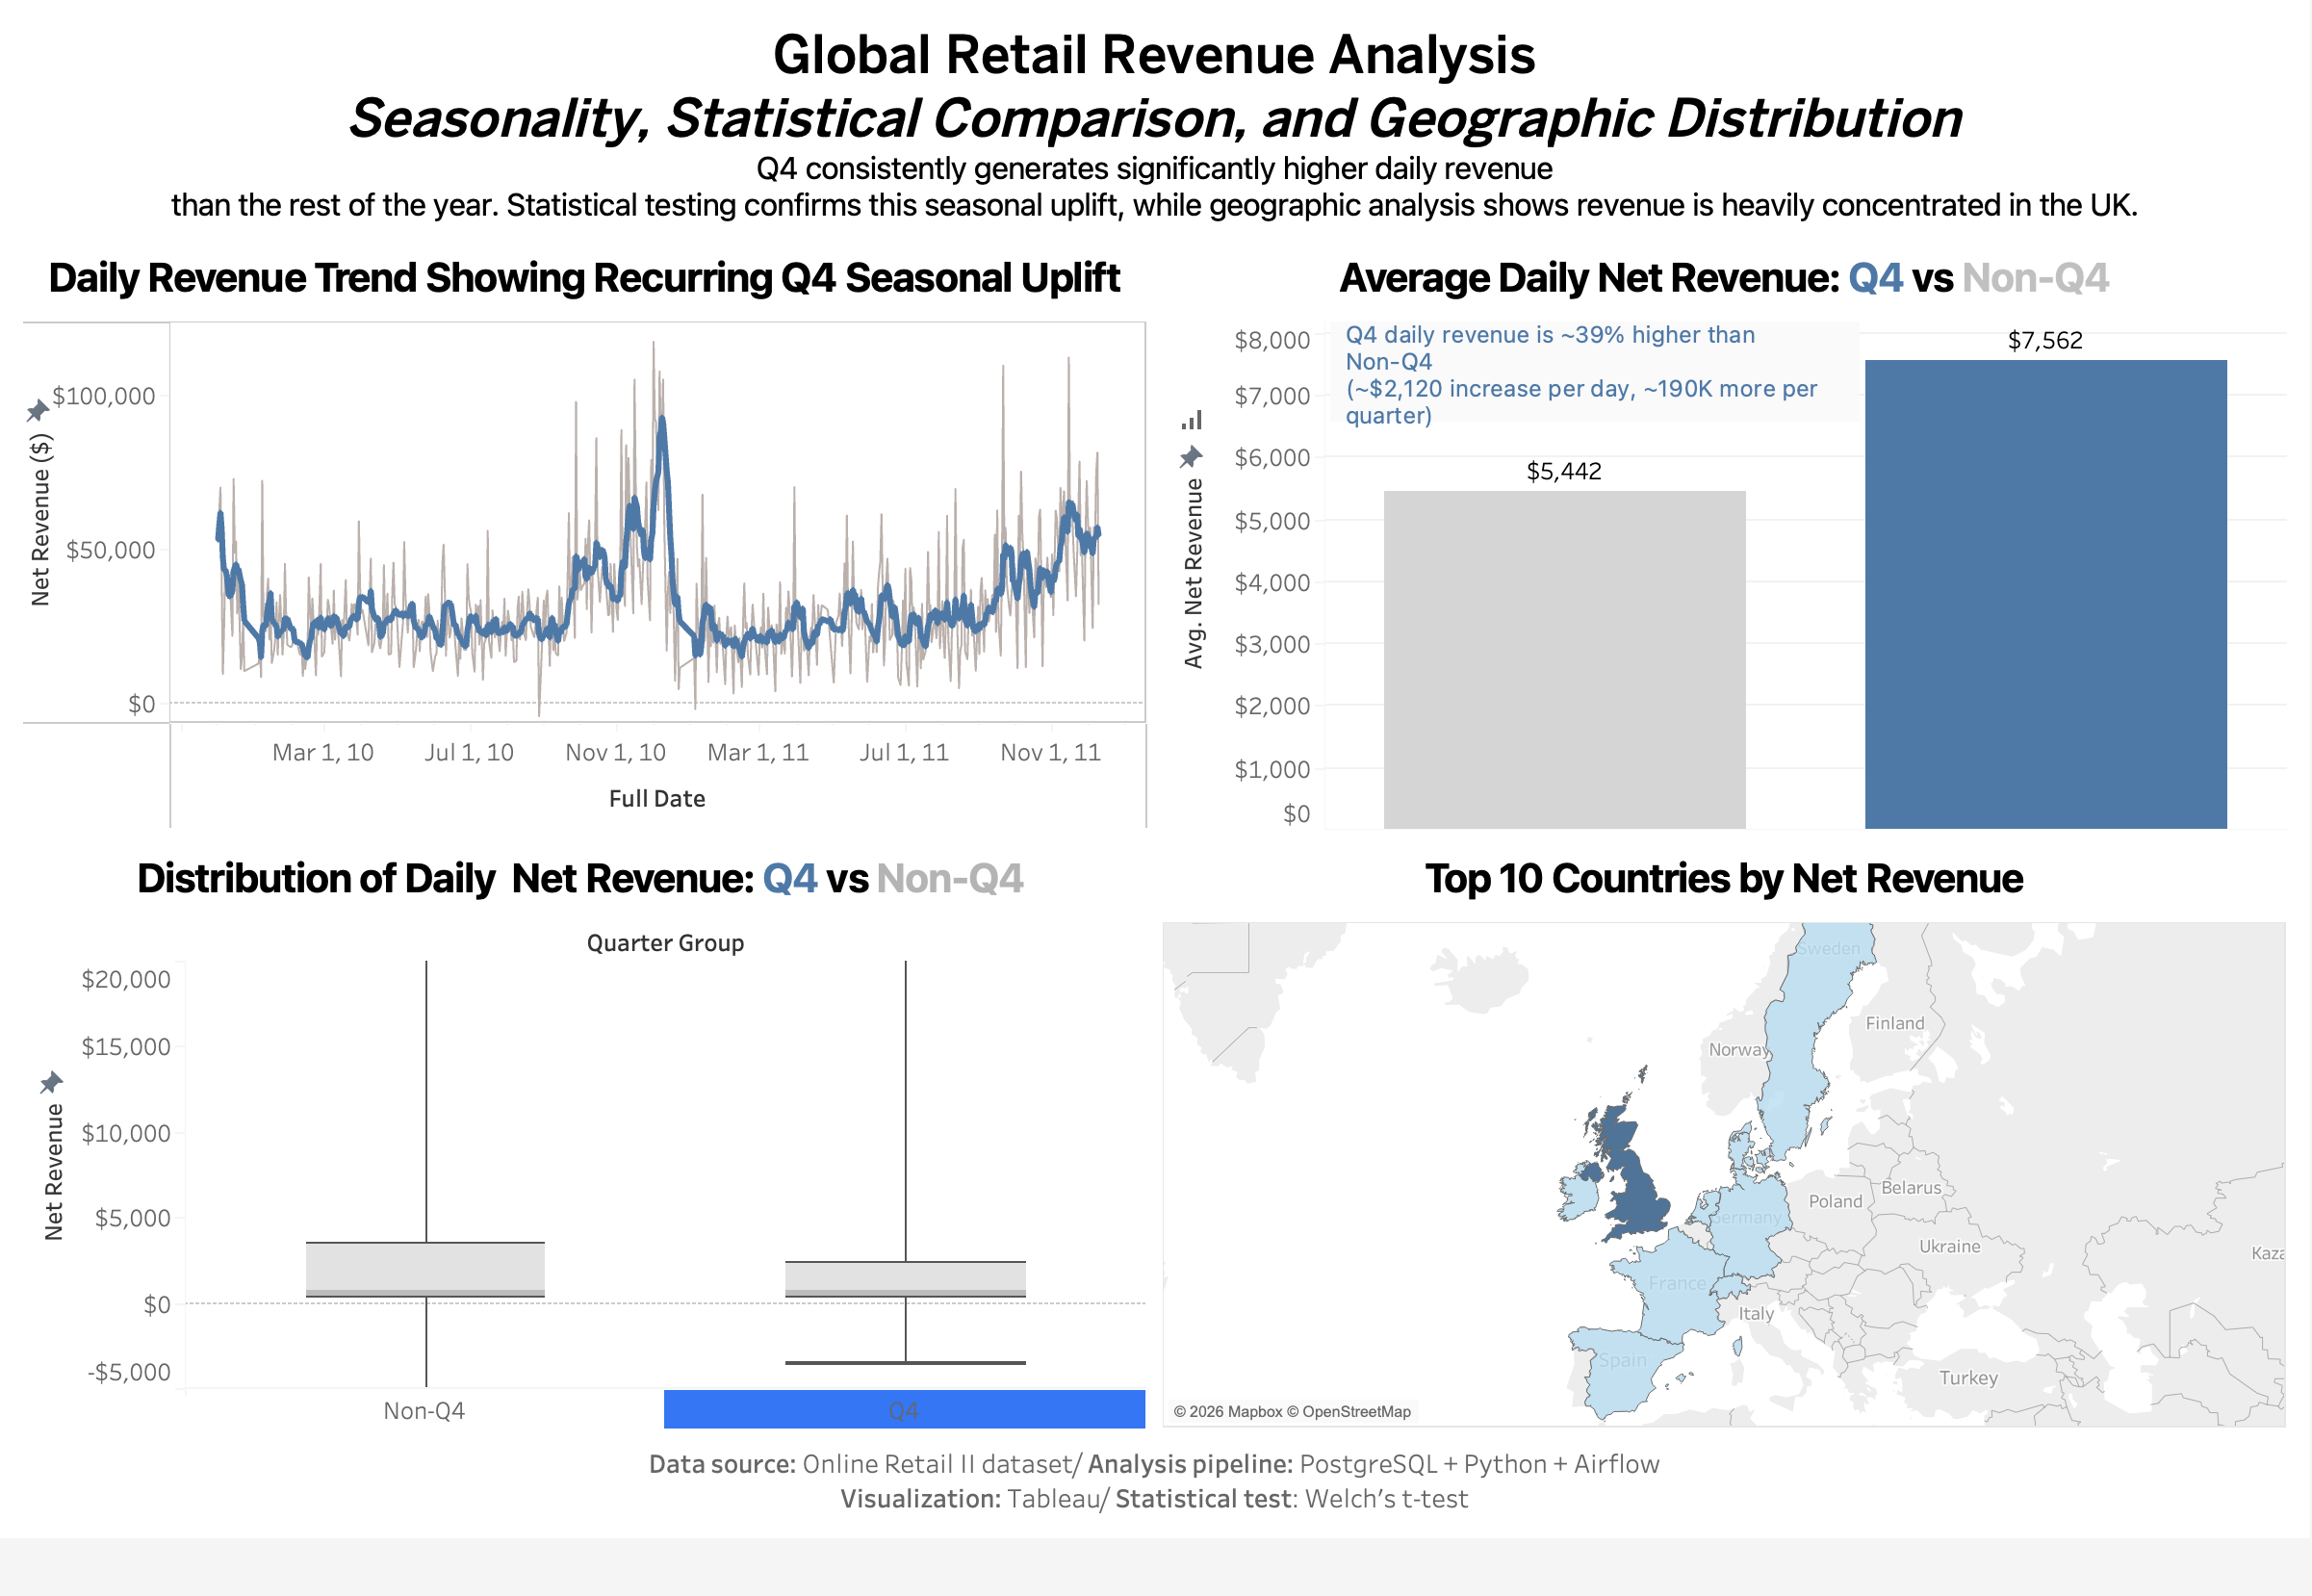

This screenshot's page, from the dashboard's own definition file:
{"tool":"tableau","page":{"name":"Dashboard 1","canvas":[1200,800],"ordinal":0},"visuals":[{"type":"title","box":[8,8,1184,116]},{"type":"worksheet","title":"Daily Revenue Trend (Seasonality)","mark":"Line","rows":["net_revenue"],"cols":["full_date"],"box":[8,124,592,312]},{"type":"worksheet","title":"Average Daily Revenue: Q4 vs Non-Q4","mark":"Automatic","rows":["net_revenue"],"cols":["Calculation_161425943102124032"],"box":[600,124,592,312]},{"type":"worksheet","title":"Daily Revenue Distribution: Q4 vs Non-Q4","mark":"Automatic","rows":["net_revenue"],"cols":["Calculation_161425943102124032"],"box":[8,436,592,311]},{"type":"worksheet","title":"Revenue Map (Country)","mark":"Multipolygon","box":[600,436,592,311]},{"type":"text","box":[8,747,1184,45]}]}

Visuals, with their boxes on the page's 1200x800 design canvas (x1, y1, x2, y2). These are canvas units, not pixel positions in the 2312x1596 screenshot, which may show the page scaled, cropped or inside an application window:
title: x1=8, y1=8, x2=1192, y2=124
"Daily Revenue Trend (Seasonality)" worksheet (Line marks): x1=8, y1=124, x2=600, y2=436
"Average Daily Revenue: Q4 vs Non-Q4" worksheet: x1=600, y1=124, x2=1192, y2=436
"Daily Revenue Distribution: Q4 vs Non-Q4" worksheet: x1=8, y1=436, x2=600, y2=747
"Revenue Map (Country)" worksheet (Multipolygon marks): x1=600, y1=436, x2=1192, y2=747
text: x1=8, y1=747, x2=1192, y2=792
